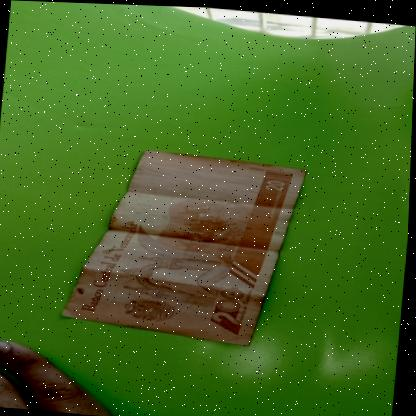twenty-front-vef: (59, 140, 309, 348)
